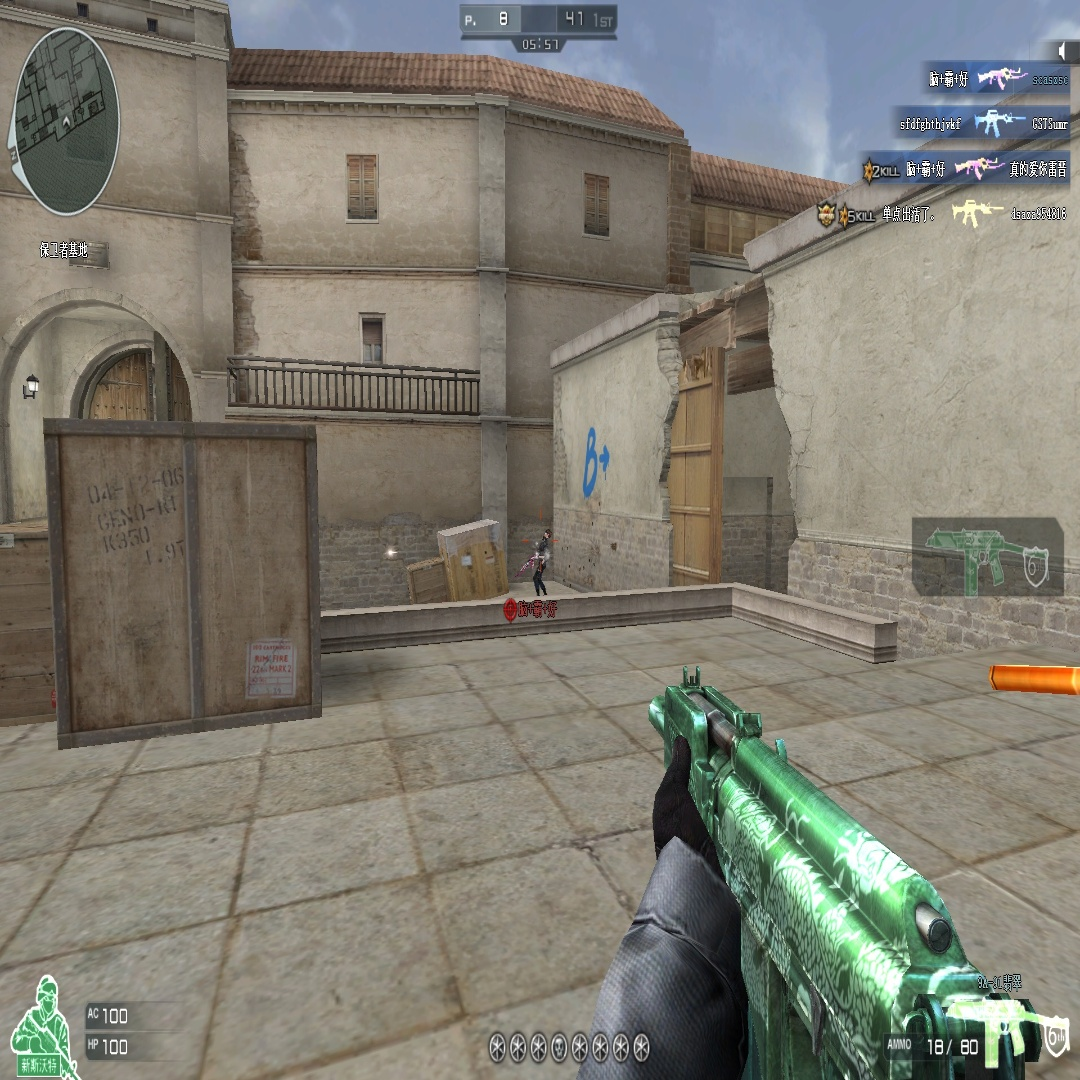p: (530, 533, 550, 597)
